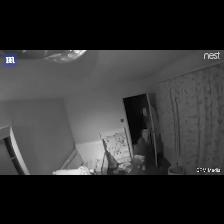person: (133, 138, 146, 170)
